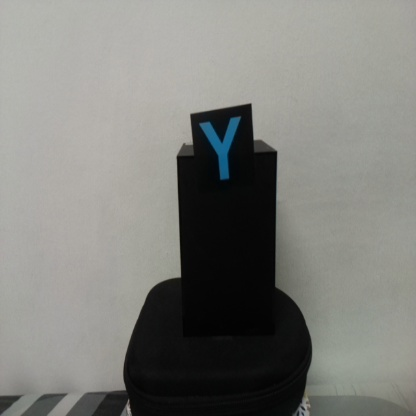id_14: (191, 112, 254, 189)
